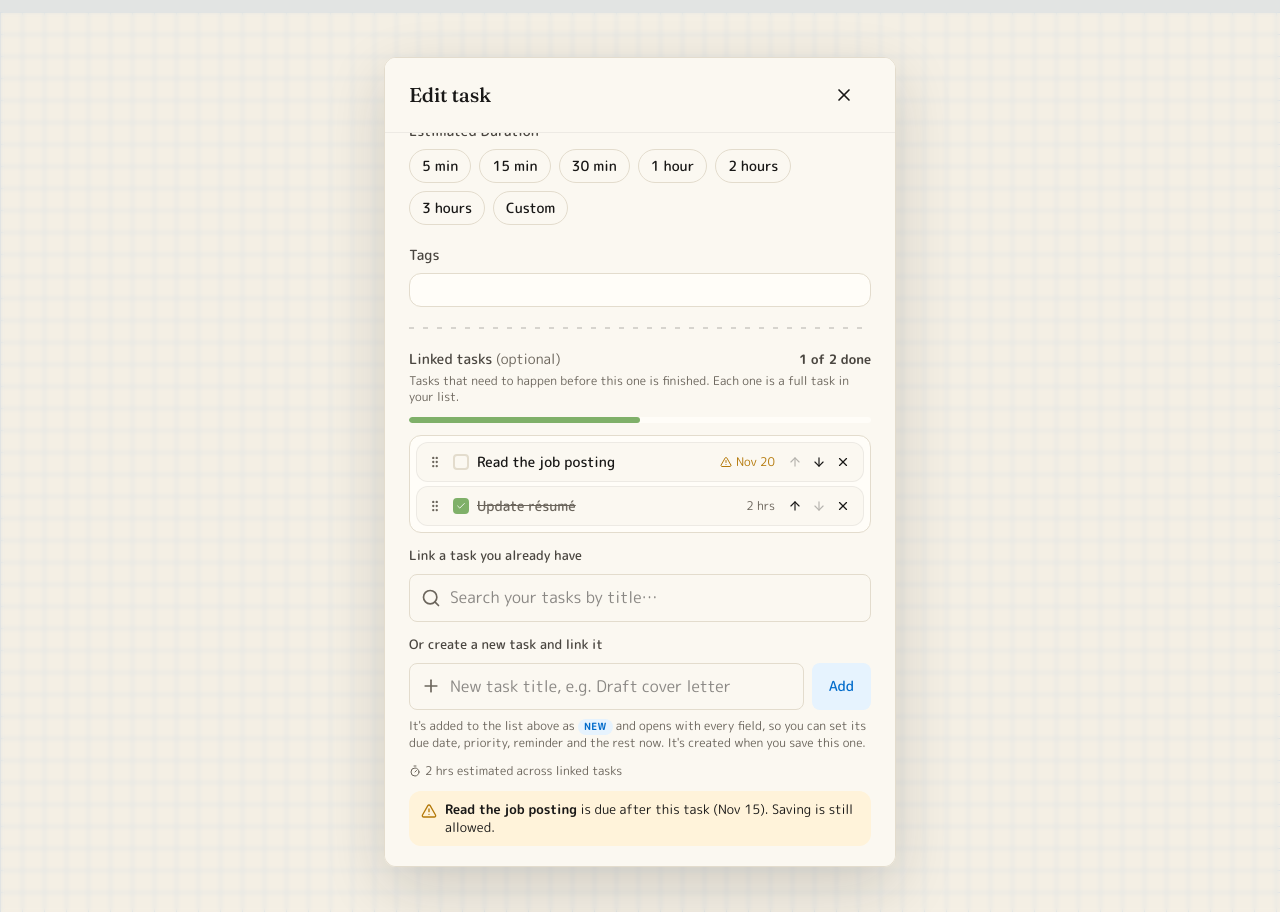
Test: LinkedTasksField on the edit-task form › shows a failed link save inline
(page scrolled)
Step 1. Click the button named "Remove Read the job posting" → (843, 462), box [831,450,855,474]
(page scrolled)
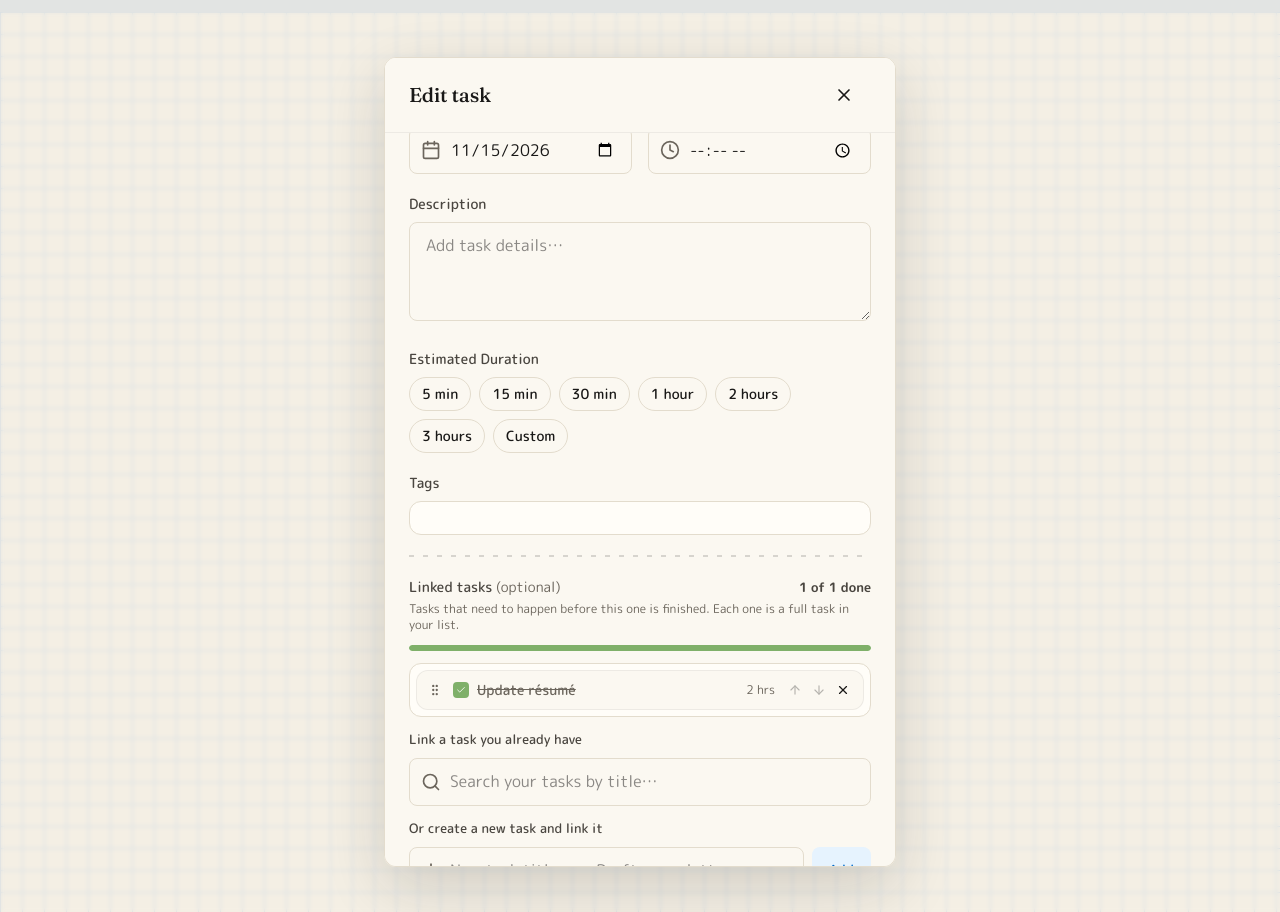
Step 2. Submit the form
(page scrolled)
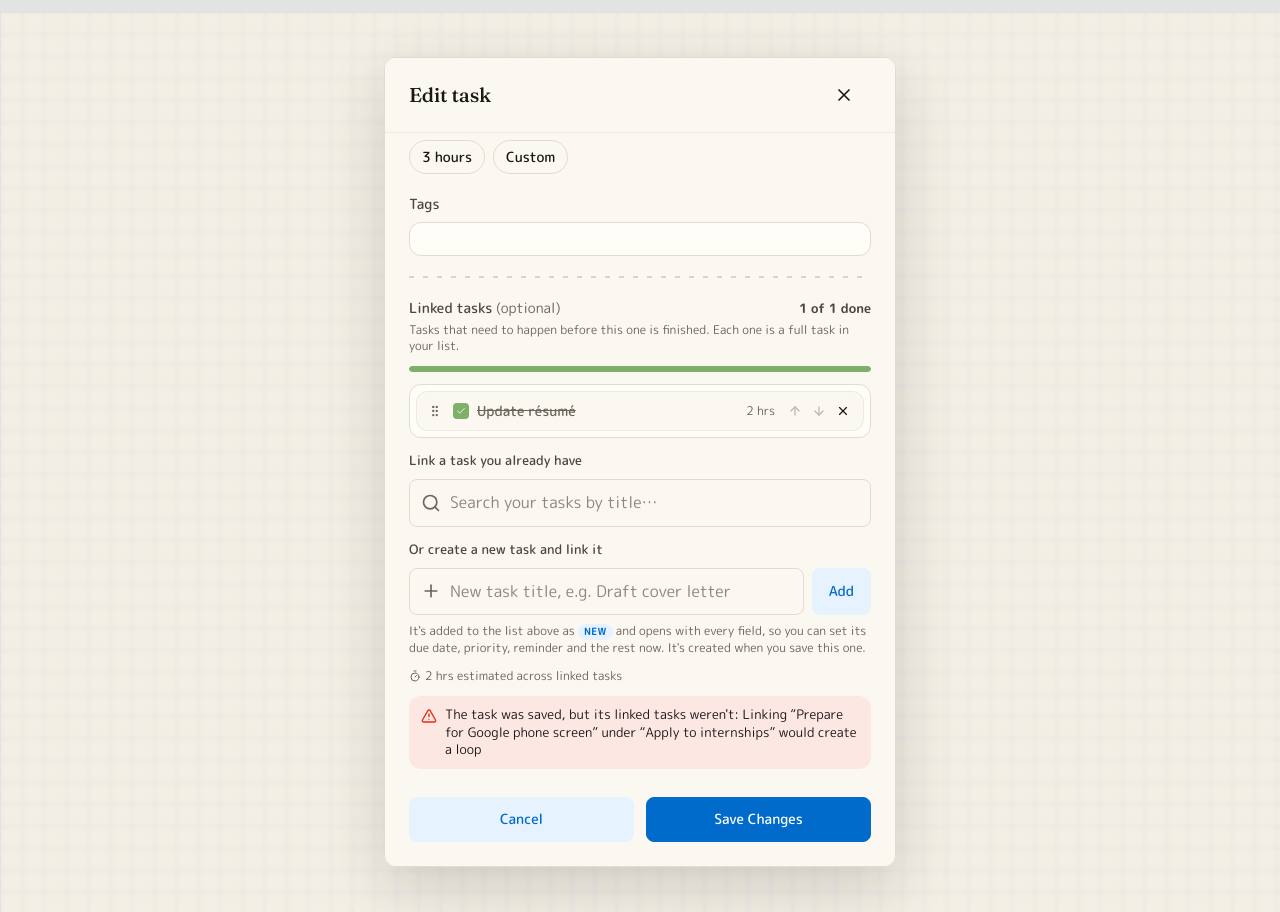
Check: the message shows "The task was saved, but its linked tasks weren't: Linking “Prepare for Google phone screen” under “Apply to internships” would create a loop", box [445,705,857,758]
